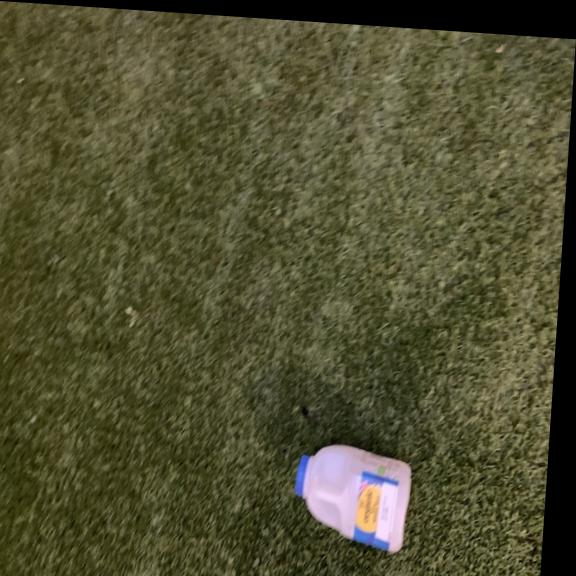Plastik: (286, 435, 417, 559)
